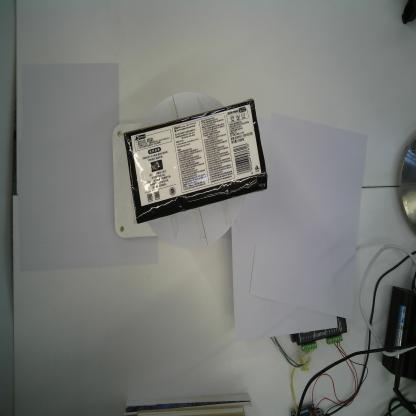Tissue: (122, 97, 269, 227)
